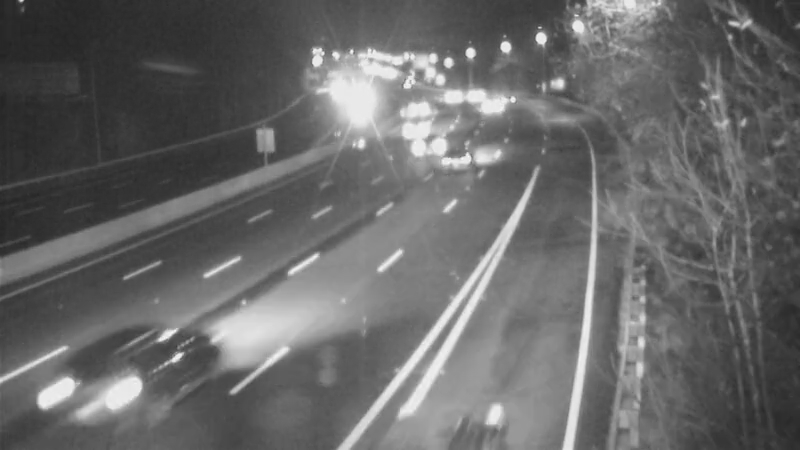vehicle: (37, 346, 147, 450), (363, 363, 473, 450), (417, 121, 497, 201), (434, 75, 484, 125), (465, 83, 515, 133), (392, 83, 442, 133), (387, 104, 437, 154), (407, 122, 457, 172)
